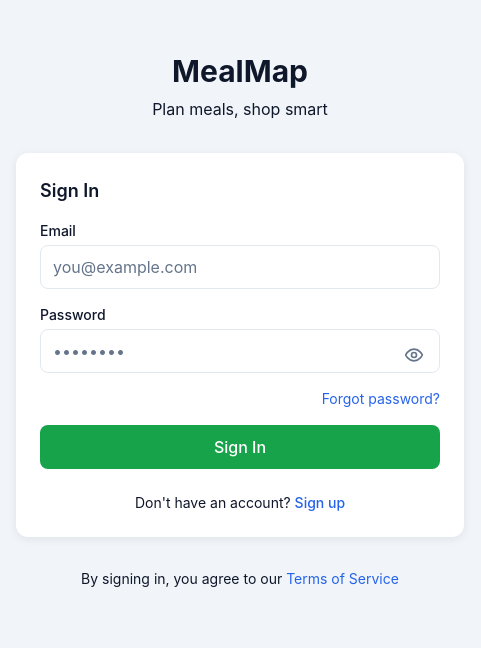
LoginPage › clears server error on new submission
The width and height of the screenshot is (481, 648).
Type "test@example.com" into the field labelled "Email" at x=240, y=267, box [40,245,440,289]
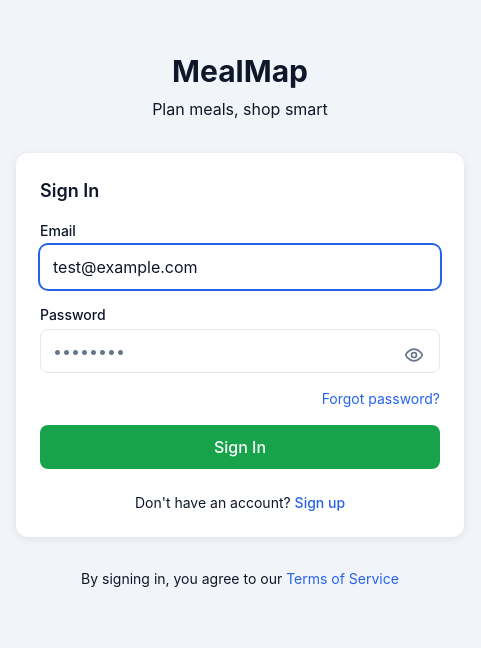
Type "wrongpass" into the password field labelled "Password" at x=240, y=351, box [40,329,440,373]
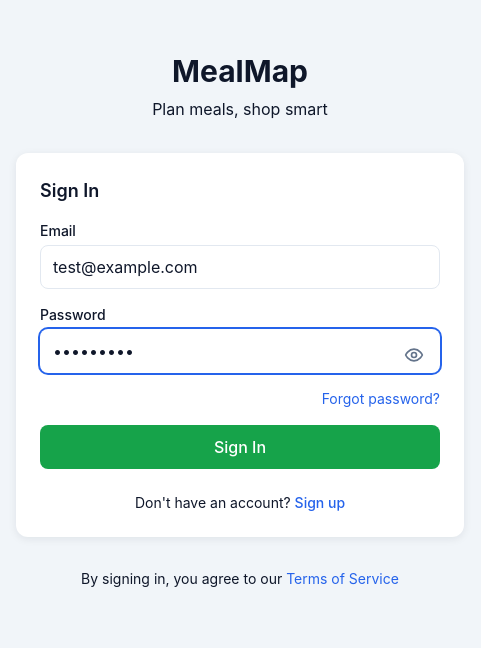
Click the button "Sign In" at x=240, y=447, box [40,425,440,469]
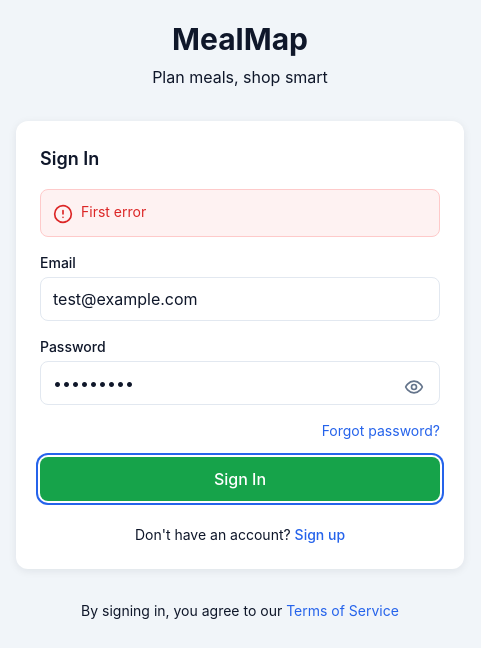
expect the message reads "First error": met, box [81,203,146,220]
Clear the password field labelled "Password" at x=240, y=383, box [40,361,440,405]
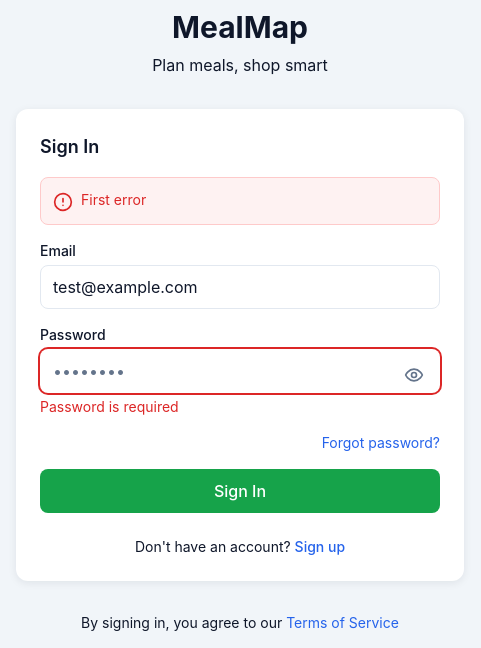
Type "correctpass" into the password field labelled "Password" at x=240, y=371, box [40,349,440,393]
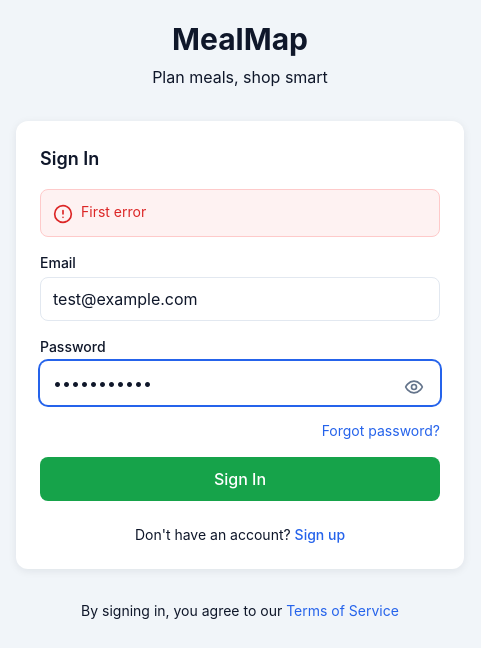
Click the button "Sign In" at x=240, y=479, box [40,457,440,501]
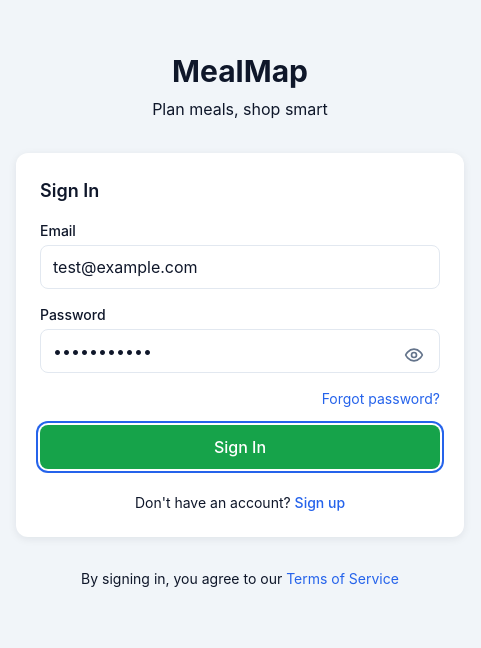
expect the message "First error" is gone: met
